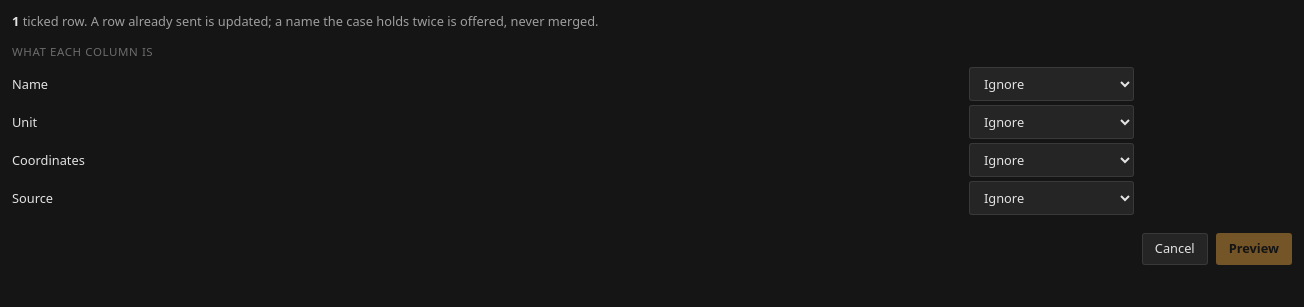
it: a whole sheet into the case, in one declaration › sends an analyst after the points themselves to the mode that makes them
Select "Place (coordinates)" in the dropdown named "What Coordinates is": (1052,160) x1=969 y1=144 x2=1134 y2=178
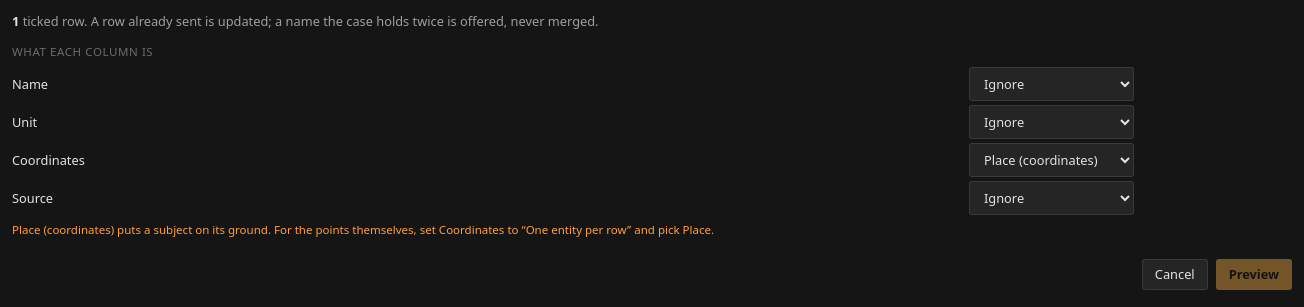
Expected: the text "set Coordinates to “One entity per row” and pick Place" is shown, x1=12 y1=222 x2=714 y2=238
Select "One entity per row" in the dropdown named "What Coordinates is": (1052,160) x1=969 y1=144 x2=1134 y2=178
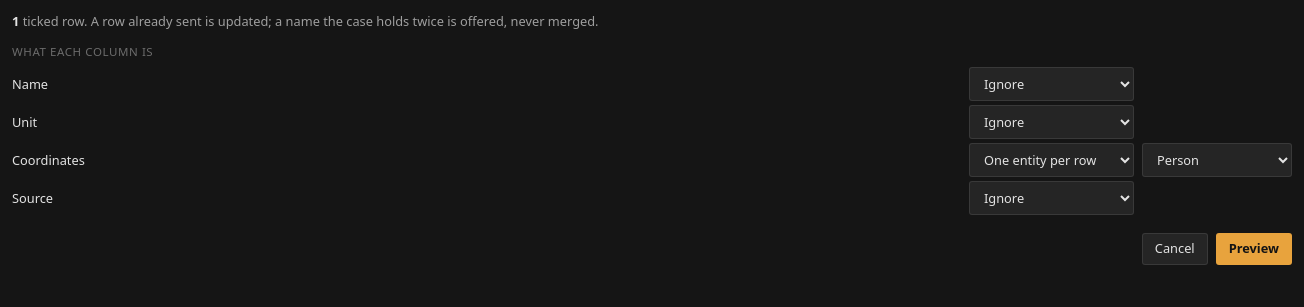
Select "Place" in the dropdown named "What Coordinates becomes": (1217,160) x1=1142 y1=144 x2=1292 y2=178
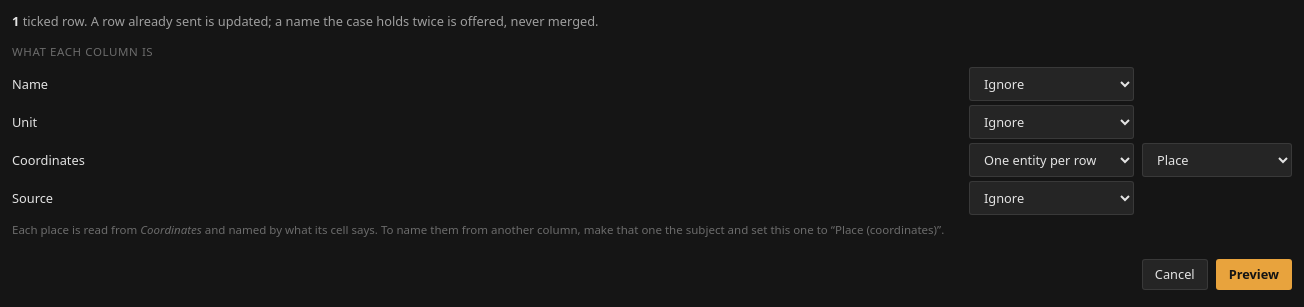
Expected: the text "Each place is read from Coordinates" is shown, x1=12 y1=222 x2=944 y2=238
